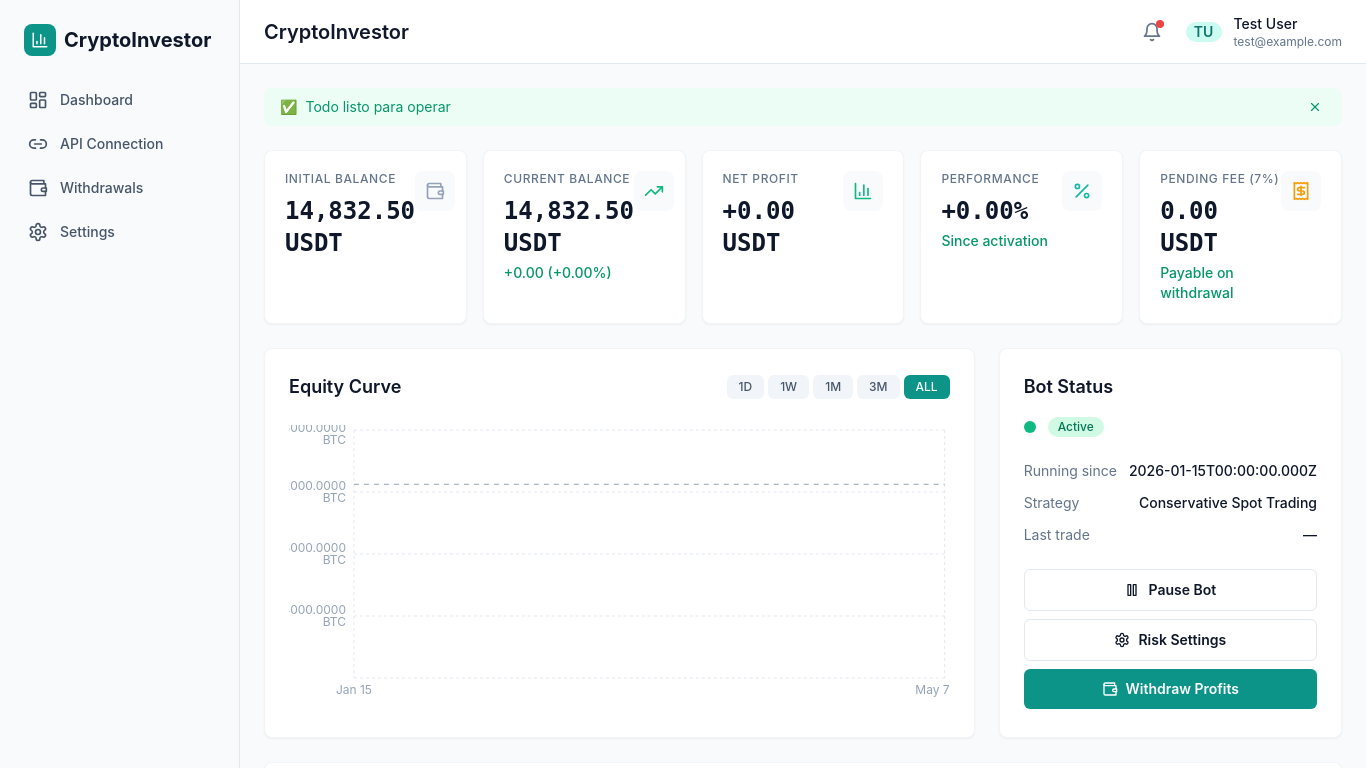
it: DashboardScreen (rewritten) › happy path — data loaded › opens withdraw modal on button click
The width and height of the screenshot is (1366, 768).
Click the button "Withdraw Profits" at (1170, 689), box [1024,669,1317,709]
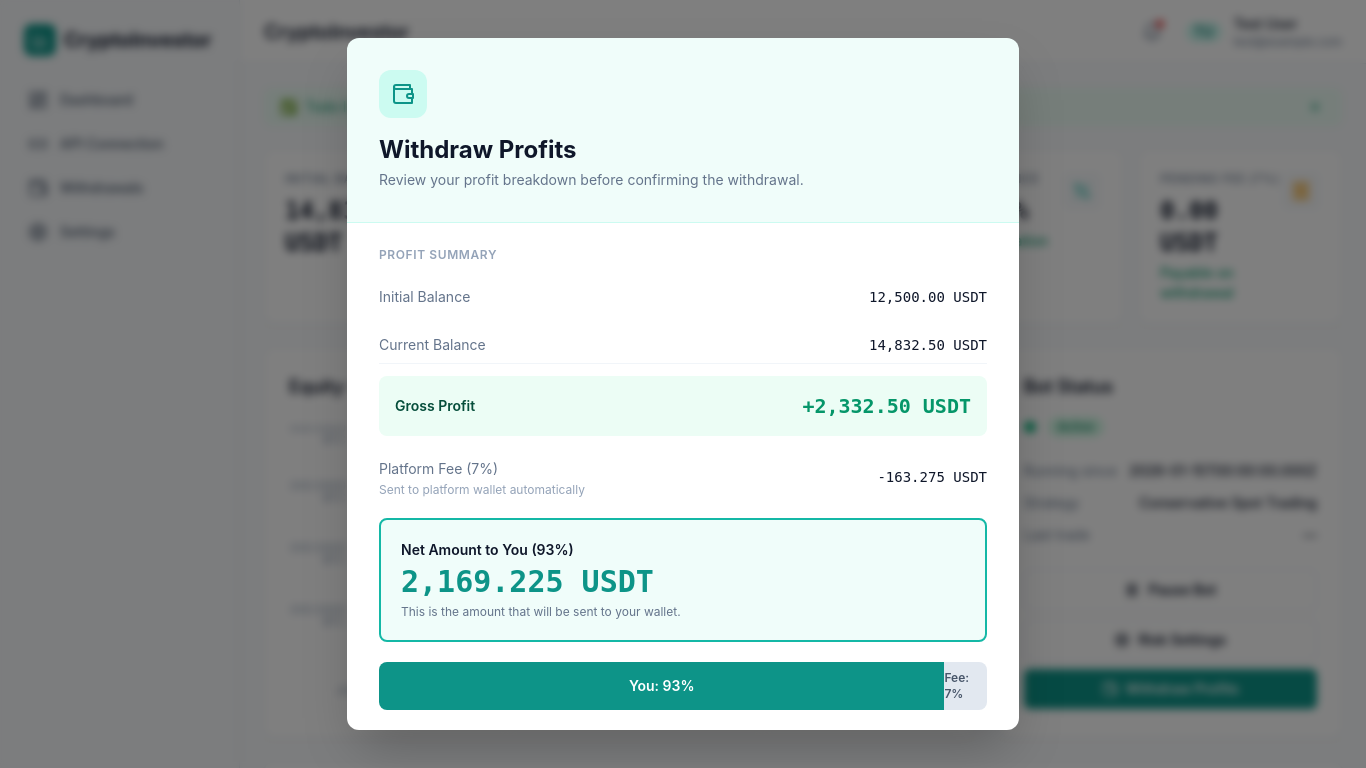
Check: the heading "Withdraw Profits" is shown, box [379,135,577,164]
